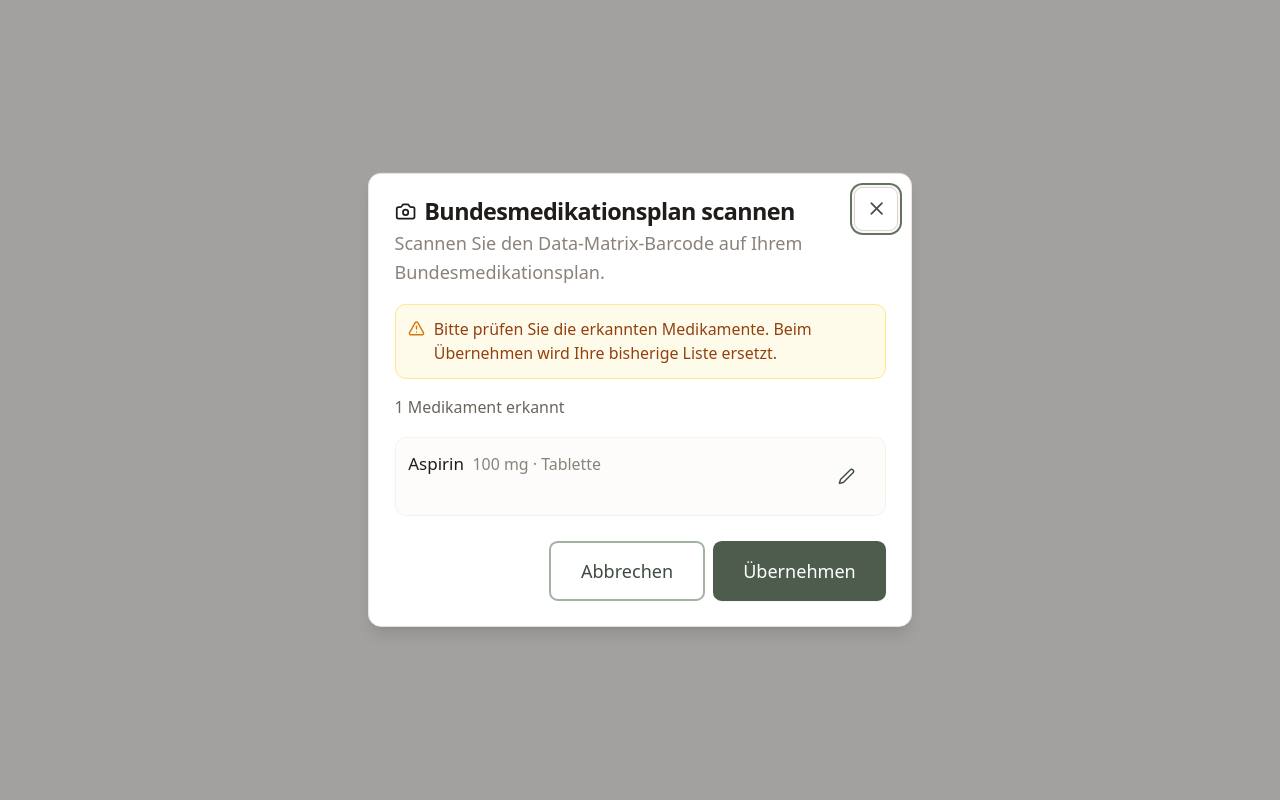
BmpScanDialog › transitions from idle → preview → idle without unmounting errors
Expected: the button "Übernehmen" is shown, [713,541,886,601]
// Transition back to idle via cancel
Click the button "Abbrechen" at (627, 571), box [549,541,705,601]
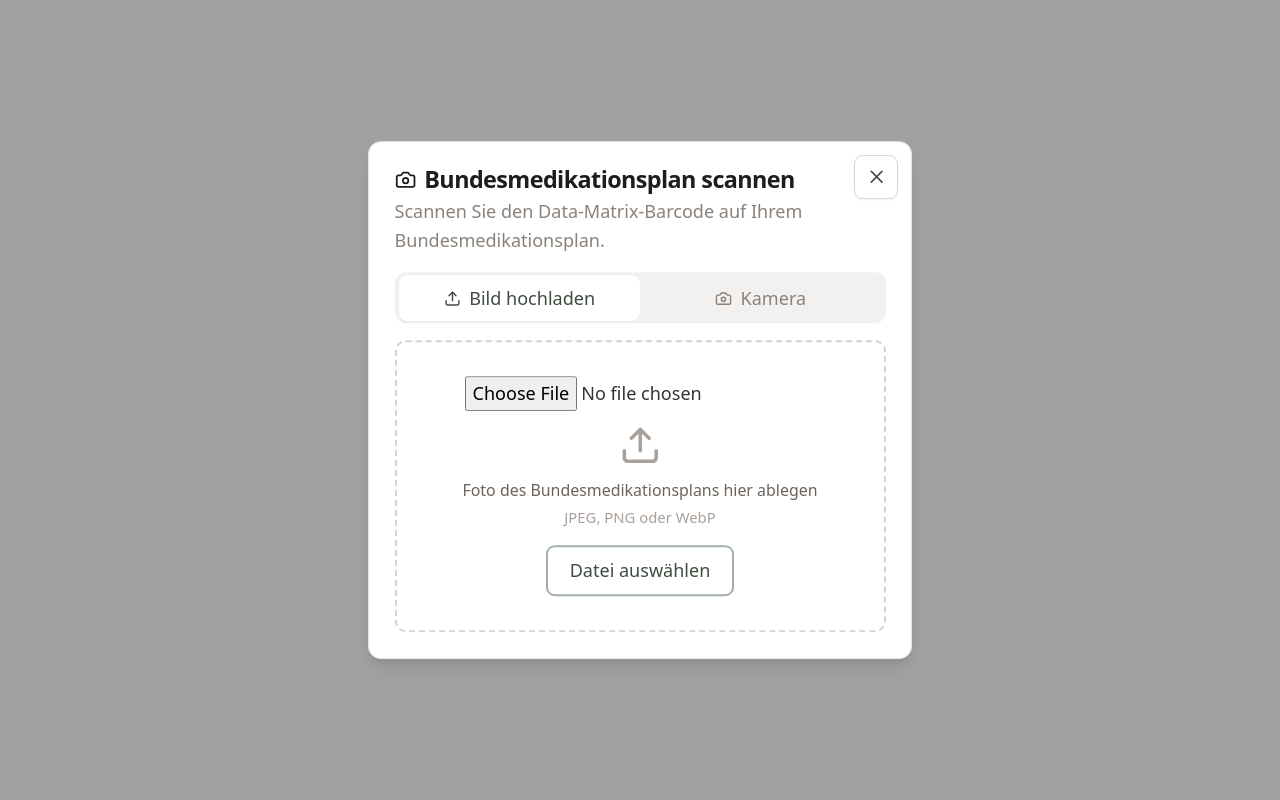
Result: the tab "Bild hochladen" is shown at [399,276,640,321]
